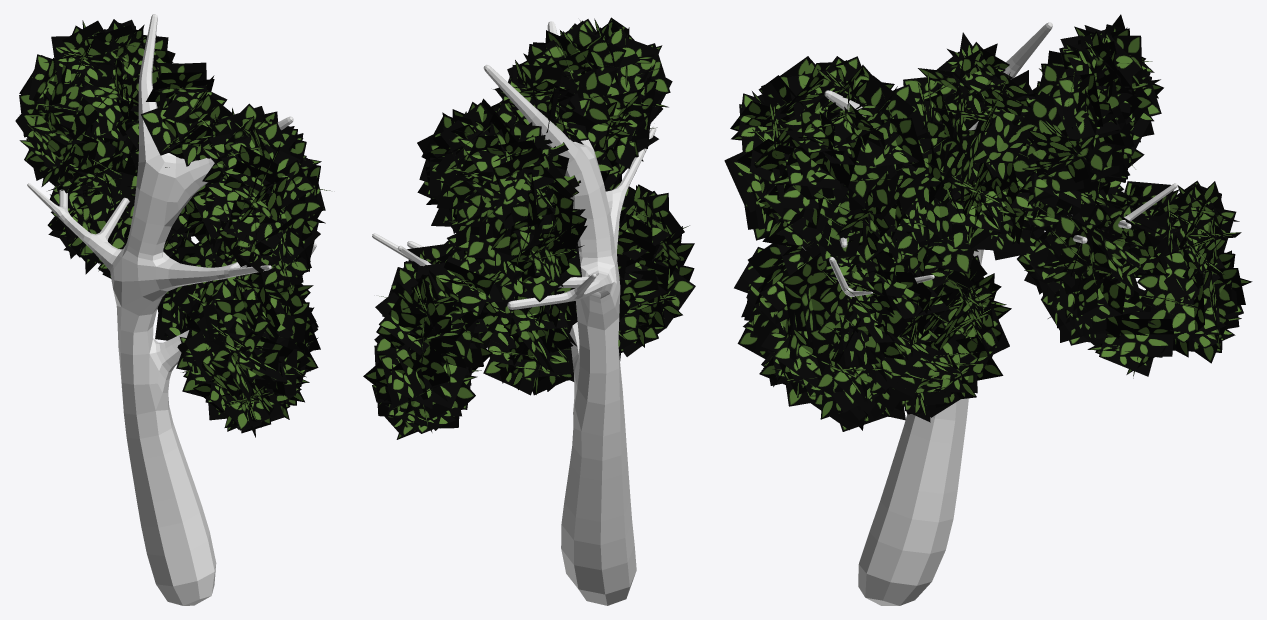
The model's file is Tree.fbx.
The picture shows the model from 3 angles, left to right: view 1: azimuth 30°, elevation 25°; view 2: azimuth 150°, elevation 25°; view 3: azimuth 270°, elevation 25°; orthographic projection. The views are drawn at different scales.
Parts seen in each view (by area): view 1: Plane.016, Plane.014; view 2: Plane.016, Plane.014; view 3: Plane.016, Plane.014.
Part boxes in pixels (x1,y1,x2,y2): Plane.016: (15,19,330,437); Plane.014: (27,14,316,605); Plane.016: (363,17,695,439); Plane.014: (372,21,656,605); Plane.016: (724,14,1252,431); Plane.014: (802,22,1177,605).
Bounding box in the file's own units: 21.64 × 55.61 × 44.2.
